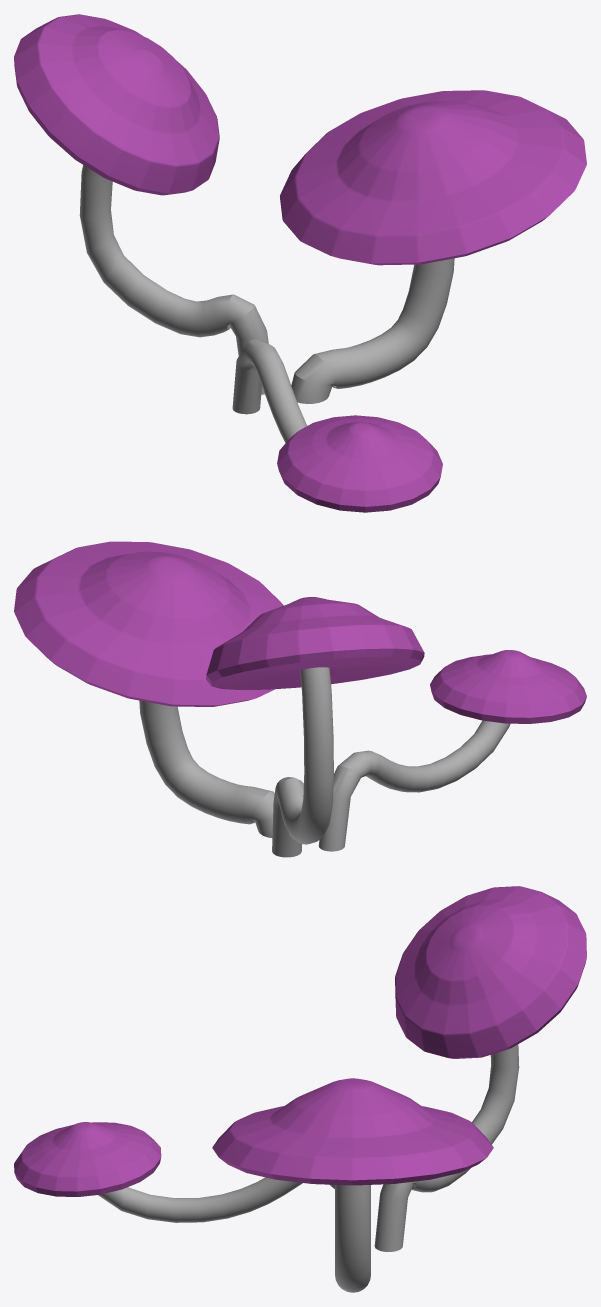
The model's file is mushroom flat group.fbx.
3 views of the same model, one above another, from view 1: azimuth 30°, elevation 25°; view 2: azimuth 150°, elevation 25°; view 3: azimuth 270°, elevation 25° (orthographic). The views are drawn at different scales.
Visible parts, largest first — view 1: mushroom_flat_group; view 2: mushroom_flat_group; view 3: mushroom_flat_group.
Boxes of the visible parts, bbox=[...] form: mushroom_flat_group: bbox=[14, 14, 586, 512]; mushroom_flat_group: bbox=[14, 541, 586, 857]; mushroom_flat_group: bbox=[14, 886, 586, 1292].
Size of the model in its own units: 0.7029 by 0.8271 by 0.4732.
